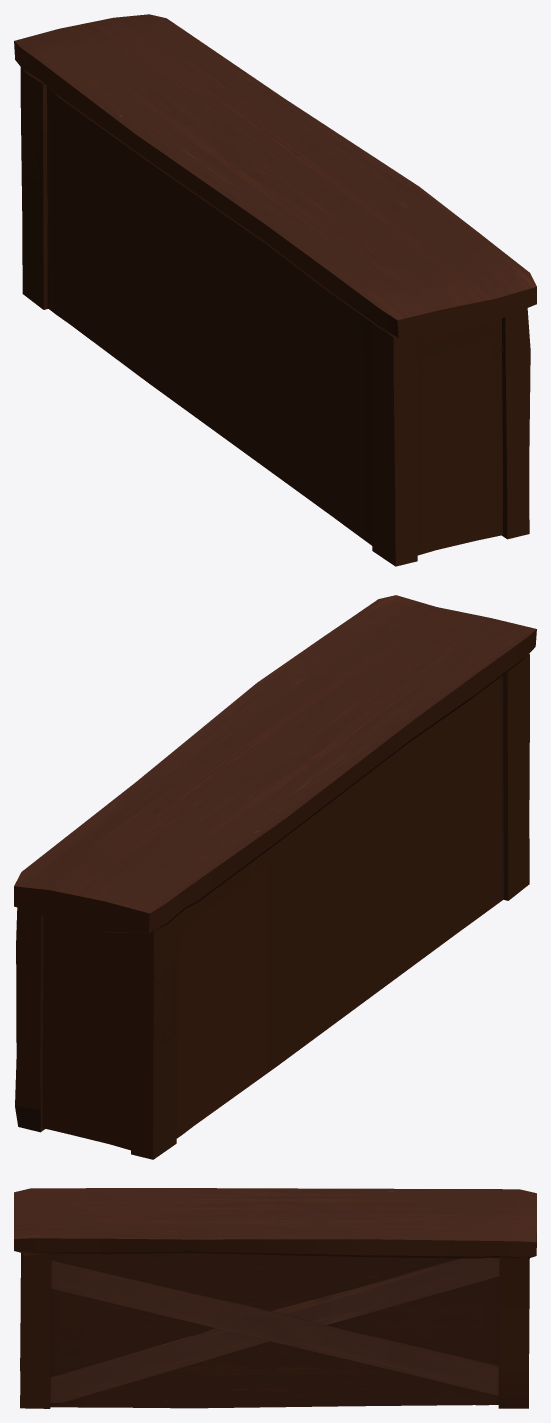
Rendered from Bar.fbx.
The picture shows the model from 3 angles, top to bottom: view 1: azimuth 30°, elevation 25°; view 2: azimuth 150°, elevation 25°; view 3: azimuth 270°, elevation 25°; orthographic projection. The views are drawn at different scales.
Visible parts, largest first — view 1: Bar_ORIGINAL.001_Cube.002; view 2: Bar_ORIGINAL.001_Cube.002; view 3: Bar_ORIGINAL.001_Cube.002.
Boxes of the visible parts, x1,y1,x2,y2 form: Bar_ORIGINAL.001_Cube.002: (14,14,536,566); Bar_ORIGINAL.001_Cube.002: (14,595,536,1159); Bar_ORIGINAL.001_Cube.002: (14,1188,536,1408).
Bounding box in the file's own units: 164 × 255 × 692.
